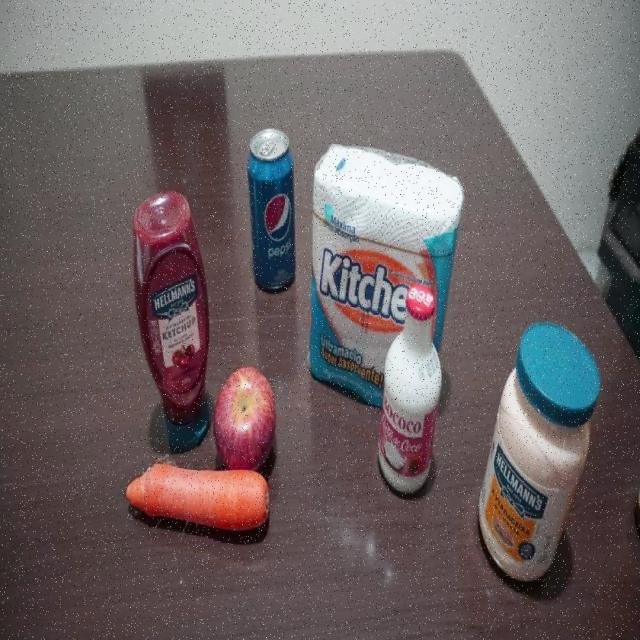Apple: (211, 364, 278, 470)
Carrot: (125, 458, 273, 534)
CoconutMilk: (375, 281, 445, 502)
Ketchup: (128, 192, 215, 454)
Mayonnaise: (477, 319, 602, 589)
Napkin: (306, 136, 469, 429)
SodaCan: (246, 125, 297, 295)
